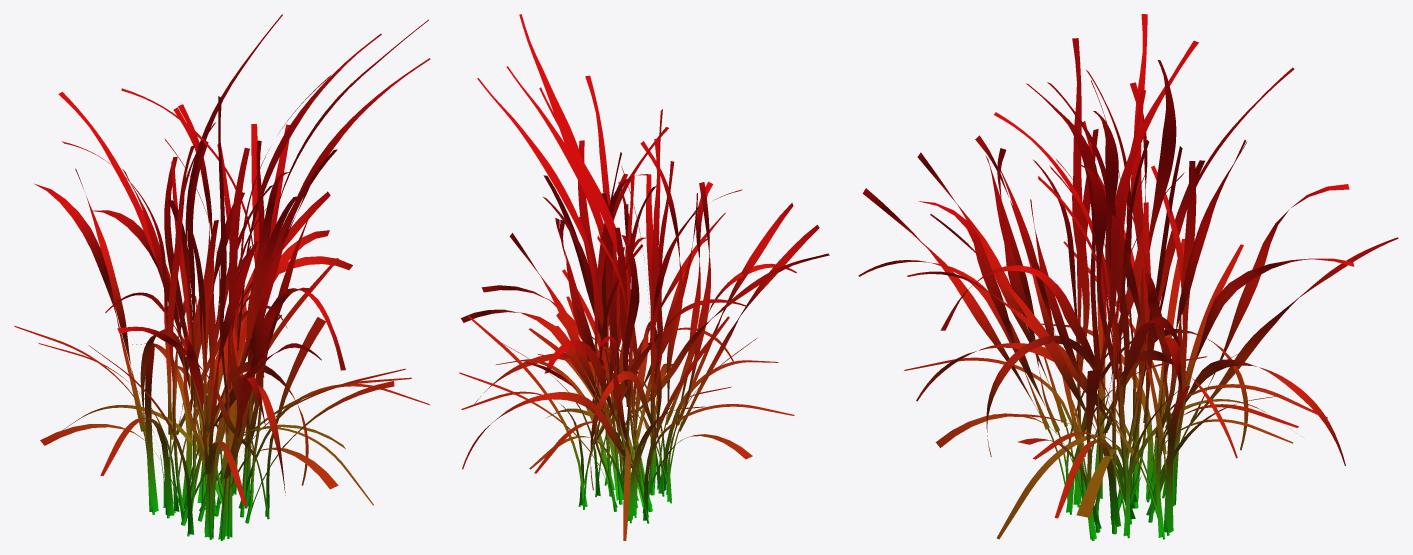
File: Lemongrass_LOD0_Var5_sktne.fbx
The picture shows the model from 3 angles, left to right: view 1: azimuth 30°, elevation 25°; view 2: azimuth 150°, elevation 25°; view 3: azimuth 270°, elevation 25°; orthographic projection. The views are drawn at different scales.
Visible parts, largest first — view 1: _2aa6_Var5_LOD0; view 2: _2aa6_Var5_LOD0; view 3: _2aa6_Var5_LOD0.
Boxes of the visible parts, x1,y1,x2,y2 form: _2aa6_Var5_LOD0: (14, 14, 430, 540); _2aa6_Var5_LOD0: (459, 14, 829, 540); _2aa6_Var5_LOD0: (858, 14, 1398, 540).
Bounding box in the file's own units: 51.24 × 67.09 × 62.36.
